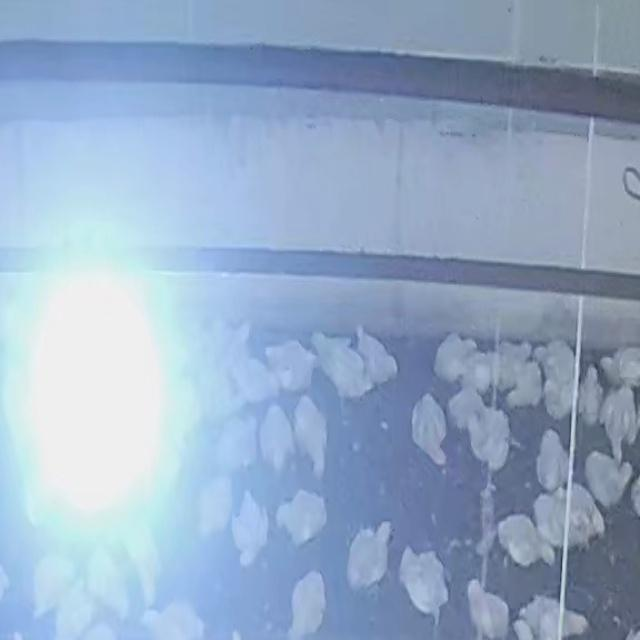chicken: (311, 330, 373, 399), (459, 398, 513, 472), (397, 542, 447, 617), (547, 481, 610, 538), (344, 521, 392, 592), (516, 593, 588, 640), (274, 485, 328, 547), (533, 496, 591, 553), (85, 545, 129, 617), (265, 337, 318, 395), (353, 326, 401, 390), (126, 522, 164, 600), (495, 512, 547, 568), (294, 394, 328, 478), (599, 386, 637, 461), (583, 451, 631, 510), (231, 490, 270, 562), (413, 391, 448, 467), (215, 410, 258, 471), (288, 569, 326, 637), (195, 474, 235, 537), (34, 553, 74, 616), (466, 580, 508, 640), (230, 354, 279, 403), (260, 404, 294, 474), (147, 599, 206, 639), (535, 428, 571, 493), (434, 331, 476, 386), (446, 386, 487, 436), (541, 339, 577, 391), (507, 361, 545, 409), (56, 594, 92, 638), (577, 366, 603, 426), (543, 376, 575, 423), (613, 346, 640, 386), (598, 354, 620, 387)
